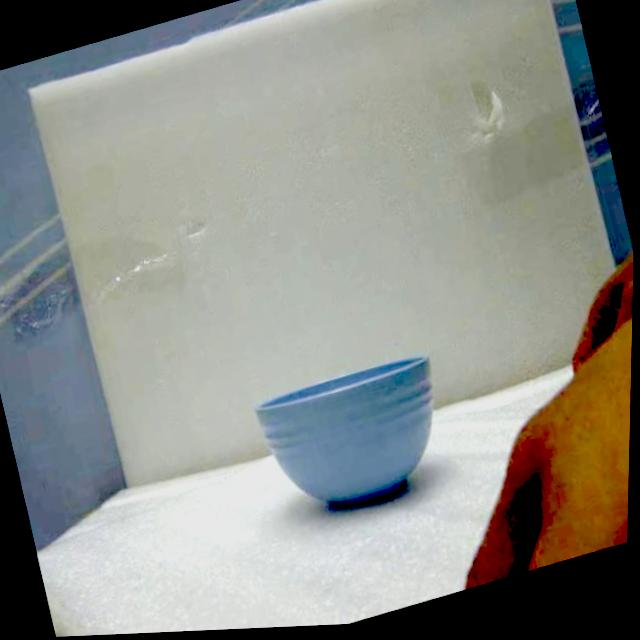Bowl: (255, 357, 432, 507)
